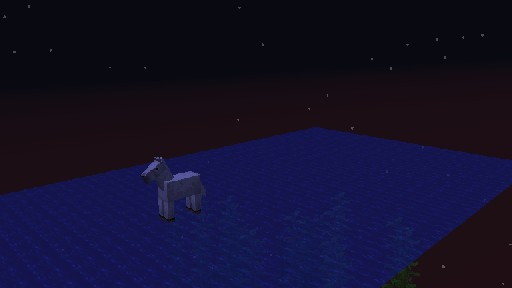horse: (139, 155, 206, 223)
